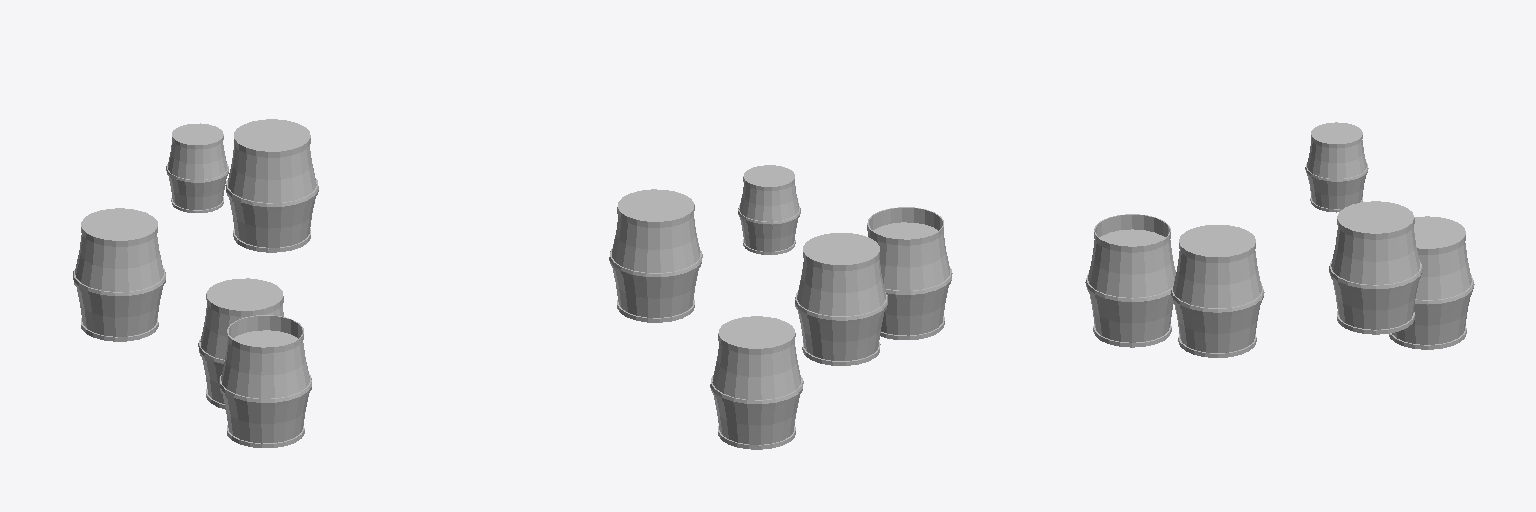
Rendered from barrels.obj.
3 views of the same model, side by side, from view 1: azimuth 30°, elevation 25°; view 2: azimuth 150°, elevation 25°; view 3: azimuth 270°, elevation 25° (orthographic).
Parts seen in each view (by area): view 1: stage2:polySurface4530 polySurface46, stage2:pCylinder1928 stage2:polySurface2014 polySurface46; view 2: stage2:polySurface4530 polySurface46, stage2:pCylinder1928 stage2:polySurface2014 polySurface46; view 3: stage2:polySurface4530 polySurface46, stage2:pCylinder1928 stage2:polySurface2014 polySurface46.
Part boxes in pixels (x1,y1,x2,y2): stage2:polySurface4530 polySurface46: (73,119,318,409); stage2:pCylinder1928 stage2:polySurface2014 polySurface46: (219,315,311,447); stage2:polySurface4530 polySurface46: (609,165,887,449); stage2:pCylinder1928 stage2:polySurface2014 polySurface46: (867,207,952,339); stage2:polySurface4530 polySurface46: (1171,122,1474,357); stage2:pCylinder1928 stage2:polySurface2014 polySurface46: (1085,214,1175,347).
Size of the model in its own units: 6.47 by 6.37 by 10.4.